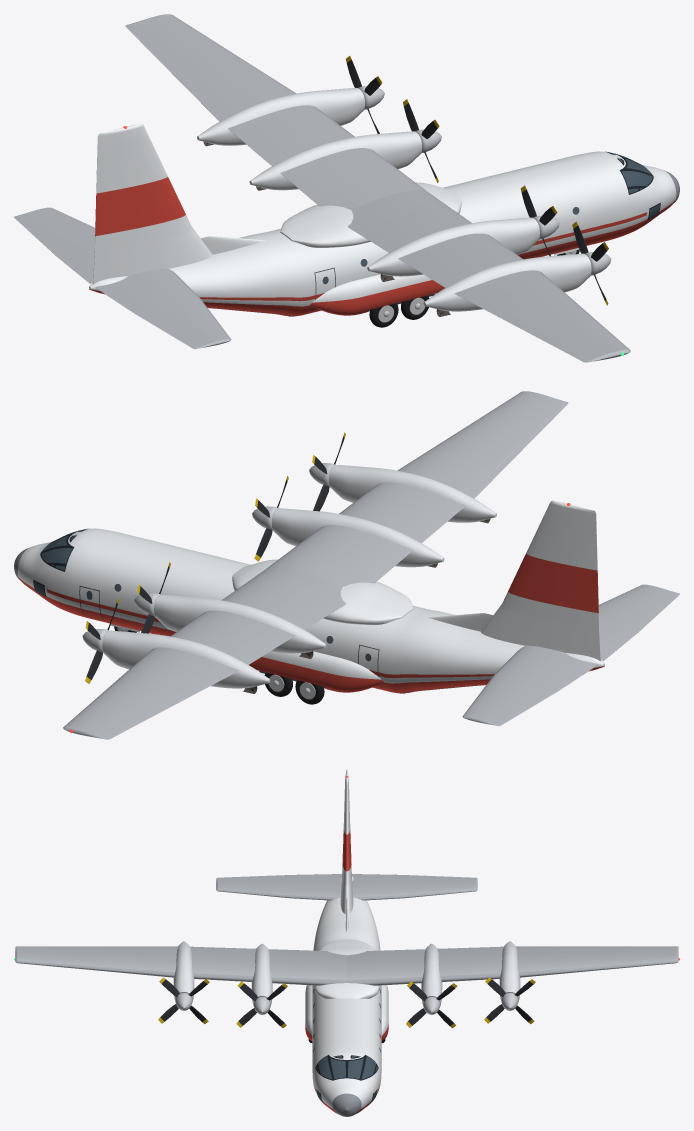
File: transport.glb
The picture shows the model from 3 angles, top to bottom: view 1: azimuth 30°, elevation 25°; view 2: azimuth 150°, elevation 25°; view 3: azimuth 270°, elevation 25°; orthographic projection. The views are drawn at different scales.
Visible parts, largest first — view 1: fuselage, wing_l, wing_r, fin, tailplane_r, nacelle_4, nacelle_1, nacelle_2, nacelle_3, sponson_r, wing_fairing, tailplane_l (+4 smaller); view 2: fuselage, wing_r, wing_l, fin, tailplane_l, nacelle_1, nacelle_4, nacelle_3, nacelle_2, sponson_l, wing_fairing, tailplane_r (+4 smaller); view 3: fuselage, wing_r, wing_l, tailplane_r, tailplane_l, wing_fairing, windscreen_frame, fin, windscreen_glass, nacelle_2, nacelle_3, nacelle_1 (+1 smaller).
Boxes of the visible parts, x1,y1,x2,y2 form: fuselage: (89,151,679,316); wing_l: (125,14,425,209); wing_r: (347,190,630,362); fin: (93,123,212,284); tailplane_r: (95,268,231,349); nacelle_4: (423,253,591,311); nacelle_1: (197,88,364,145); nacelle_2: (249,131,421,190); nacelle_3: (367,217,539,276); sponson_r: (310,274,444,315); wing_fairing: (280,182,461,247); tailplane_l: (14,207,95,283); fuselage: (14,528,604,693); wing_r: (268,391,568,586); wing_l: (63,567,345,739); fin: (481,500,600,661); tailplane_l: (462,645,598,726); nacelle_1: (102,630,270,688); nacelle_4: (329,465,496,522); nacelle_3: (272,508,444,567); nacelle_2: (154,594,326,653); sponson_l: (249,651,383,692); wing_fairing: (232,559,413,624); tailplane_r: (598,584,679,660); fuselage: (312,876,381,1116); wing_r: (15,946,346,985); wing_l: (347,946,678,985); tailplane_r: (216,874,341,900); tailplane_l: (352,874,477,900); wing_fairing: (314,939,379,998); windscreen_frame: (315,1055,378,1102); fin: (340,769,353,914); windscreen_glass: (315,1056,378,1100); nacelle_2: (421,943,442,1006); nacelle_3: (251,943,272,1006); nacelle_1: (499,941,520,1001).
Bounding box in the file's own units: 30.01 × 11.7 × 40.86.
